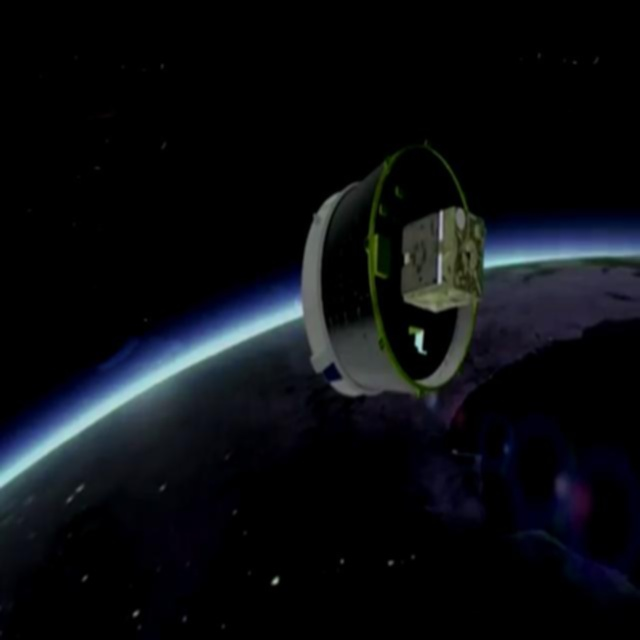medium_debris: (297, 129, 495, 414)
